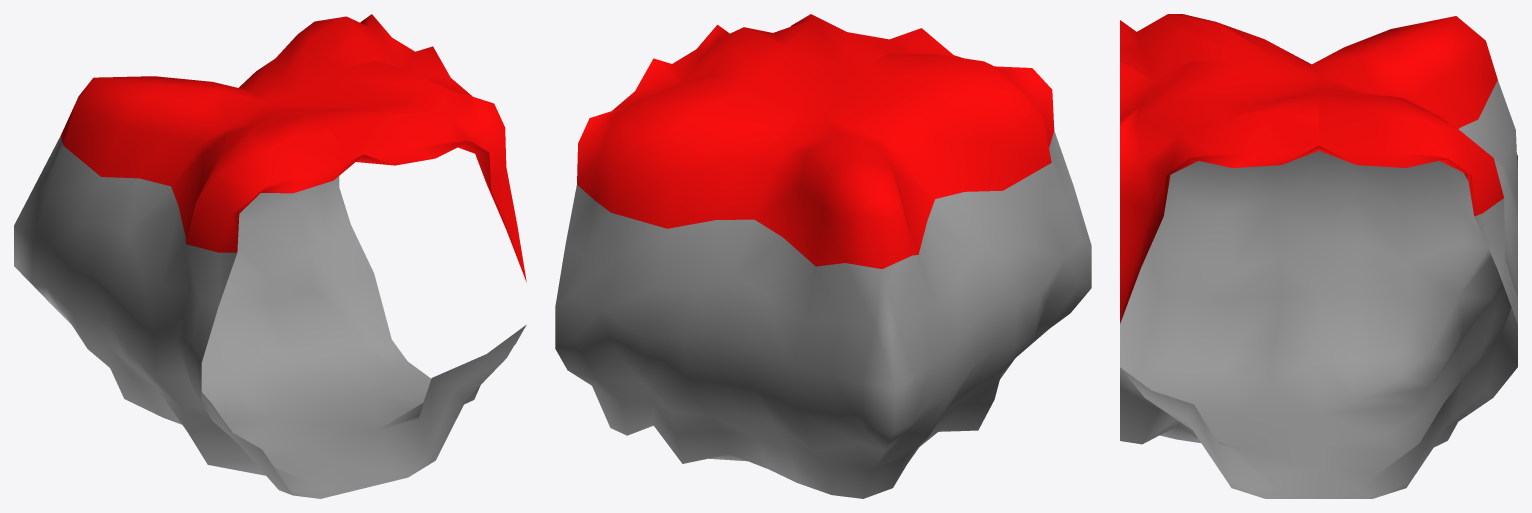
File: G490_Hallway_Corner.fbx
The picture shows the model from 3 angles, left to right: view 1: azimuth 30°, elevation 25°; view 2: azimuth 150°, elevation 25°; view 3: azimuth 270°, elevation 25°; orthographic projection. The views are drawn at different scales.
Visible parts, largest first — view 1: Hallway_Corner_1_L256_W256_H256; view 2: Hallway_Corner_1_L256_W256_H256; view 3: Hallway_Corner_1_L256_W256_H256.
Part boxes in pixels (box(x1,y1,x2,y2)): Hallway_Corner_1_L256_W256_H256: box(14, 14, 526, 498); Hallway_Corner_1_L256_W256_H256: box(555, 14, 1091, 498); Hallway_Corner_1_L256_W256_H256: box(1120, 14, 1517, 498).
Bounding box in the file's own units: 256 × 256 × 256.
